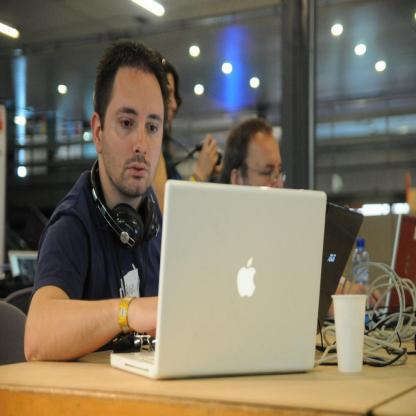board: (109, 188, 327, 380), (316, 202, 365, 334), (364, 215, 416, 330)
